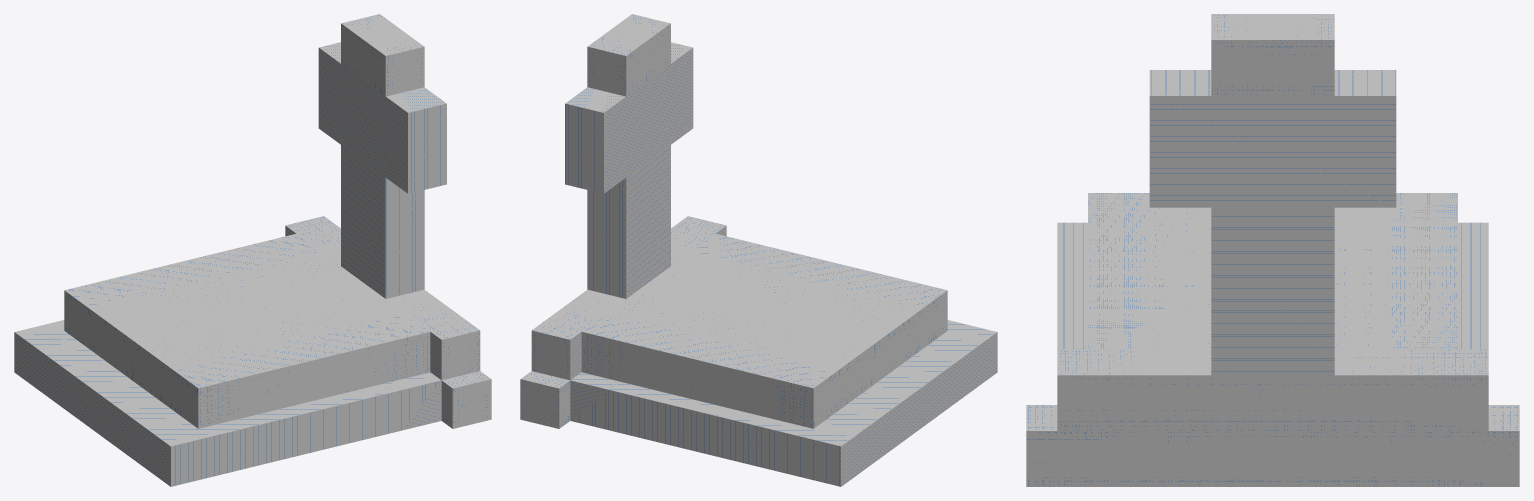
The model's file is tomb-02.fbx.
3 renders of one model, left to right at view 1: azimuth 30°, elevation 25°; view 2: azimuth 150°, elevation 25°; view 3: azimuth 270°, elevation 25°, orthographic. The views are drawn at different scales.
Visible parts, largest first — view 1: generated; view 2: generated; view 3: generated.
Boxes of the visible parts, left/top/right/bottom form: generated: left=14, top=14, right=491, bottom=486; generated: left=520, top=14, right=997, bottom=486; generated: left=1026, top=14, right=1519, bottom=486.
Size of the model in its own units: 80 by 80 by 80.
1 material, 1 textured.
